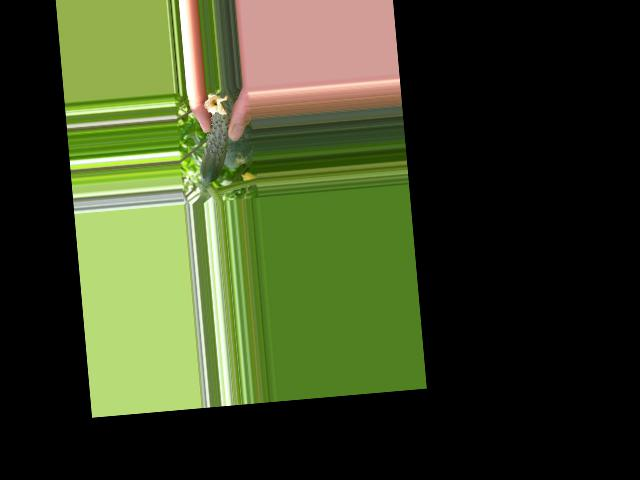cucumber: (193, 93, 235, 183)
